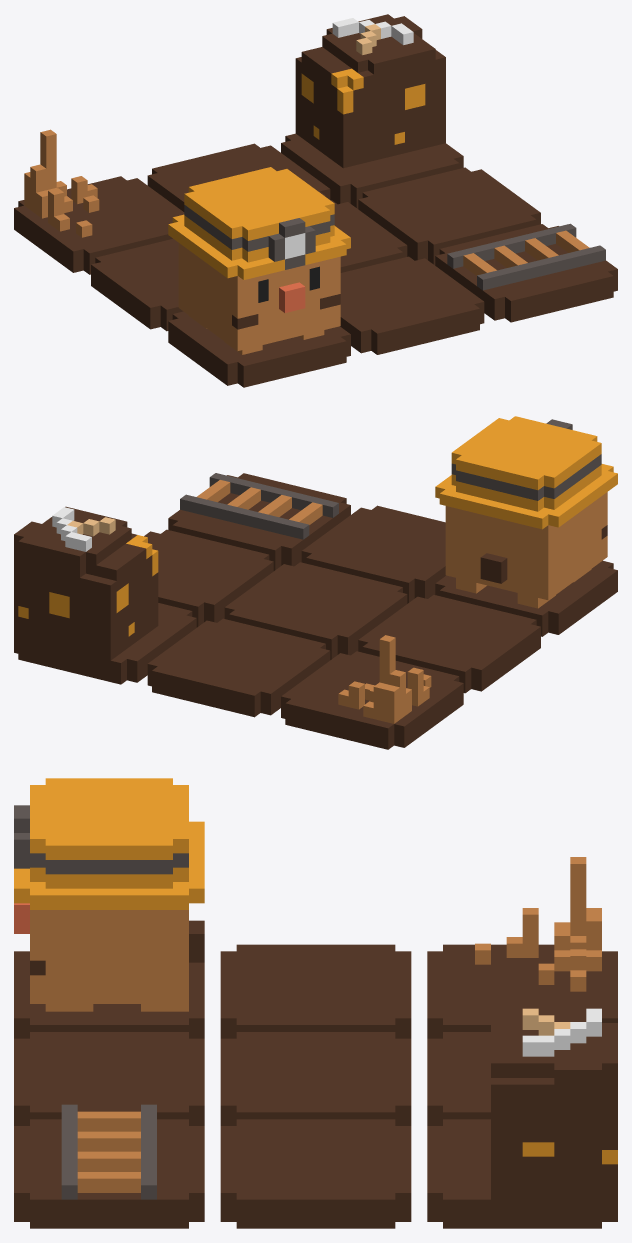
The model's file is hard_two_tile.obj.
3 renders of one model, top to bottom at view 1: azimuth 30°, elevation 25°; view 2: azimuth 150°, elevation 25°; view 3: azimuth 270°, elevation 25°, orthographic. The views are drawn at different scales.
Size of the model in its own units: 3.8 by 1.4 by 3.8.
Materials: 1 (1 with a texture image).
